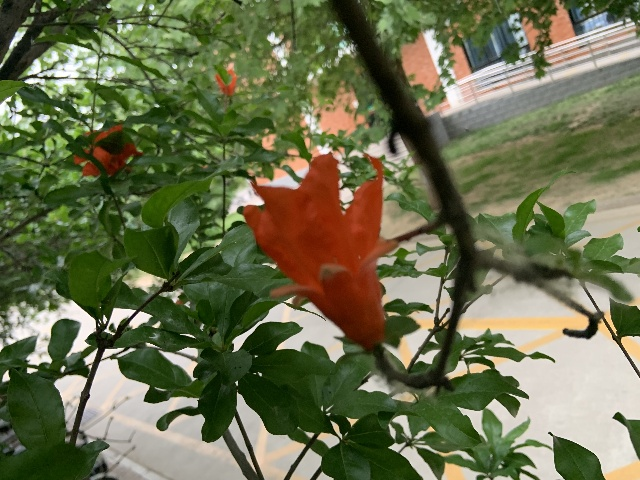flower: (241, 151, 394, 349), (72, 122, 142, 176), (214, 67, 236, 96)
